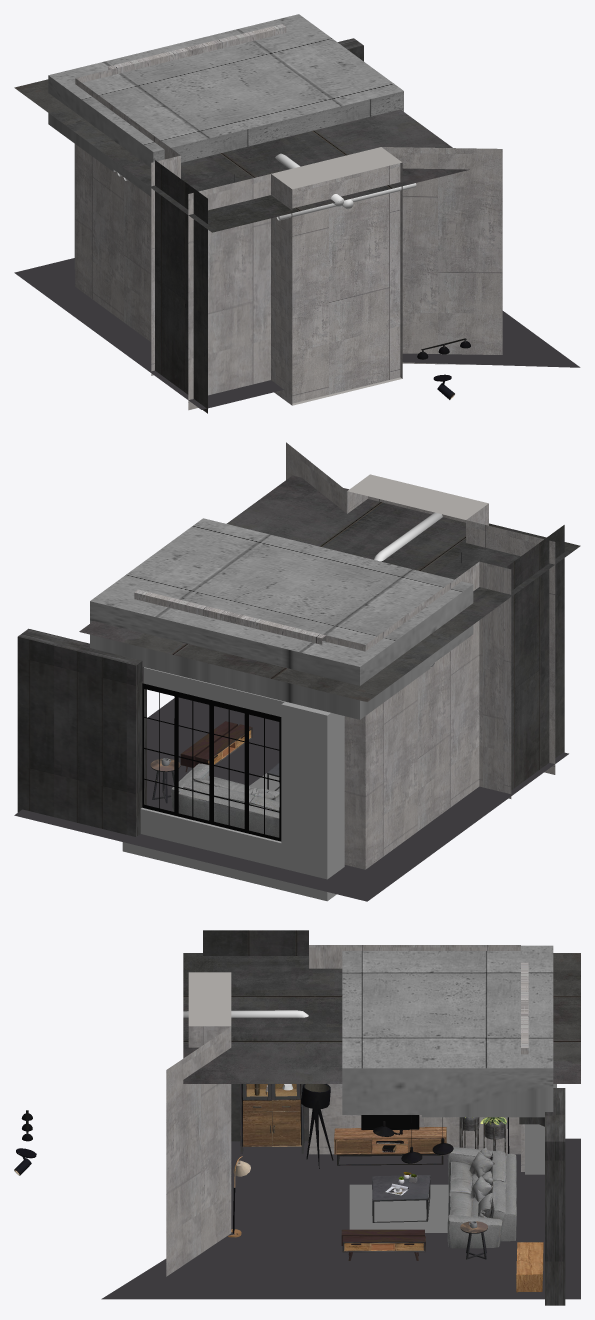
The model's file is tvroom.glb.
The picture shows the model from 3 angles, top to bottom: view 1: azimuth 30°, elevation 25°; view 2: azimuth 150°, elevation 25°; view 3: azimuth 270°, elevation 25°; orthographic projection. The views are drawn at different scales.
Parts seen in each view (by area): view 1: Plane.002, Cube.002, Plane.001, Plane.004, Plane.003, Plane, material.003, Cylinder.001; view 2: Cube.002, Plane.001, Cube.003, Plane.004, Cube, Plane, Plane.003, Plane.002, object 20, material, material.002, Cylinder.004; view 3: Plane, Cube.002, Plane.004, Plane.002, material, material.001, Plane.001, Cube.003, material.002, Cube.001, Plane.003, material.003 (+3 smaller).
Part boxes in pixels (box(x1,y1,x2,y2)): Plane.002: box(188, 147, 502, 410); Cube.002: box(48, 14, 403, 196); Plane.001: box(75, 24, 286, 375); Plane.004: box(14, 79, 469, 232); Plane.003: box(155, 160, 207, 413); Plane: box(14, 258, 580, 409); material.003: box(234, 174, 470, 399); Cylinder.001: box(276, 183, 416, 220); Cube.002: box(90, 518, 473, 719); Plane.001: box(134, 561, 511, 869); Cube.003: box(17, 628, 146, 836); Plane.004: box(79, 475, 580, 701); Cube: box(122, 667, 344, 901); Plane: box(14, 697, 568, 901); Plane.003: box(507, 525, 564, 790); Plane.002: box(286, 442, 555, 774); object 20: box(142, 683, 281, 841); material: box(171, 763, 279, 837); material.002: box(150, 721, 252, 803); Cylinder.004: box(374, 512, 442, 561); Plane: box(101, 1138, 580, 1299); Cube.002: box(342, 945, 553, 1117); Plane.004: box(183, 953, 580, 1083); Plane.002: box(166, 972, 231, 1276); material: box(372, 1147, 543, 1292); material.001: box(239, 1084, 446, 1165); Plane.001: box(309, 945, 528, 1171); Cube.003: box(519, 1088, 565, 1305); material.002: box(341, 1117, 506, 1260); Cube.001: box(349, 1184, 448, 1232); Plane.003: box(203, 930, 308, 1141); material.003: box(14, 1084, 509, 1237).
Size of the model in its own units: 37.81 by 25.12 by 55.72.
Materials: 13 (8 with a texture image).
